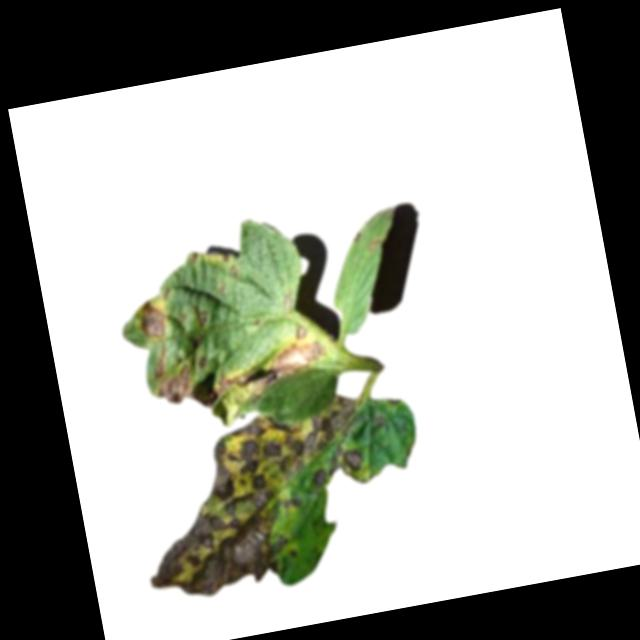Early_blight: (123, 392, 385, 605), (252, 322, 331, 390), (152, 364, 197, 408), (212, 365, 263, 401), (135, 294, 172, 343), (147, 341, 171, 378), (197, 308, 212, 328)
